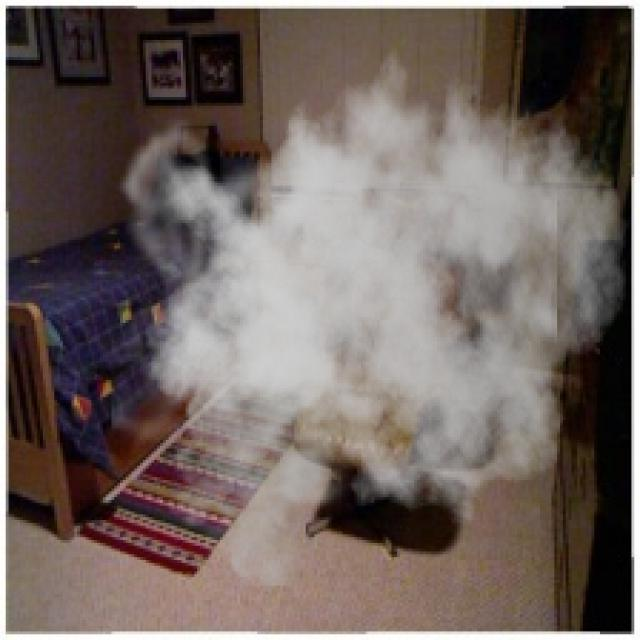smoke: (111, 26, 628, 586)
